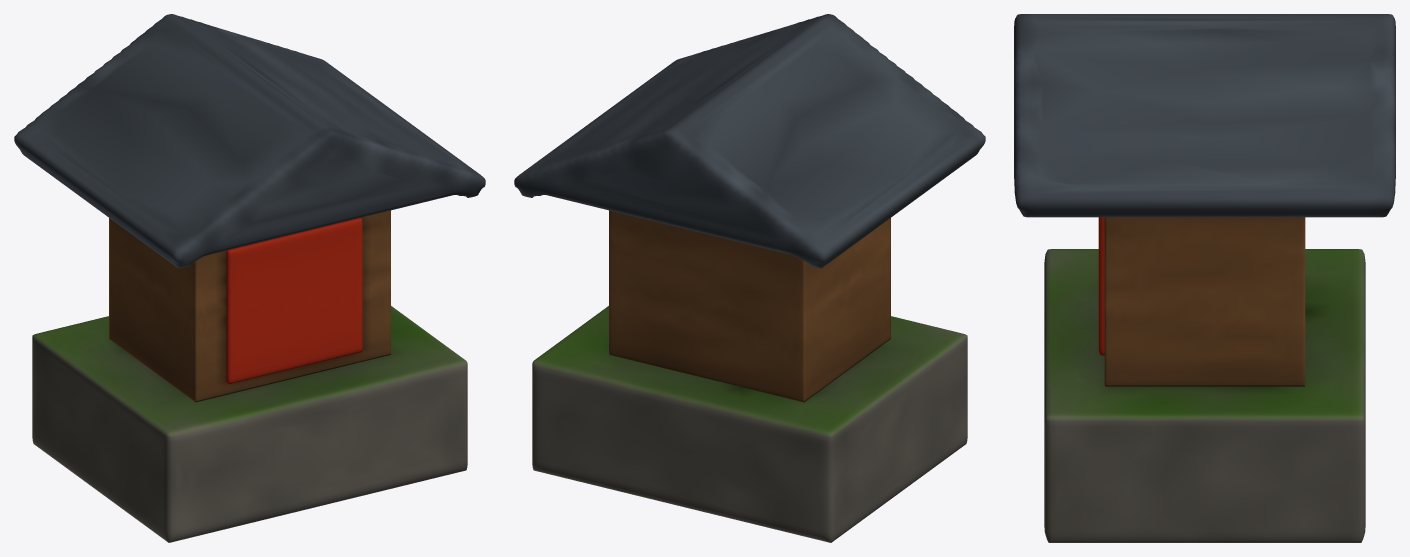
File: hokora.glb
The picture shows the model from 3 angles, left to right: view 1: azimuth 30°, elevation 25°; view 2: azimuth 150°, elevation 25°; view 3: azimuth 270°, elevation 25°; orthographic projection. The views are drawn at different scales.
Visible parts, largest first — view 1: hokora_roof, hokora_base, hokora_body, hokora_doors; view 2: hokora_roof, hokora_base, hokora_body; view 3: hokora_roof, hokora_base, hokora_body, hokora_doors.
Part boxes in pixels (x1,y1,x2,y2): hokora_roof: [14, 14, 485, 268]; hokora_base: [32, 306, 467, 542]; hokora_body: [109, 210, 390, 402]; hokora_doors: [226, 218, 362, 384]; hokora_roof: [514, 14, 985, 268]; hokora_base: [532, 306, 967, 542]; hokora_body: [609, 210, 890, 402]; hokora_roof: [1014, 14, 1395, 217]; hokora_base: [1044, 249, 1365, 542]; hokora_body: [1104, 217, 1305, 386]; hokora_doors: [1098, 217, 1104, 355].
Size of the model in its own units: 2.07 by 2.44 by 1.9.
